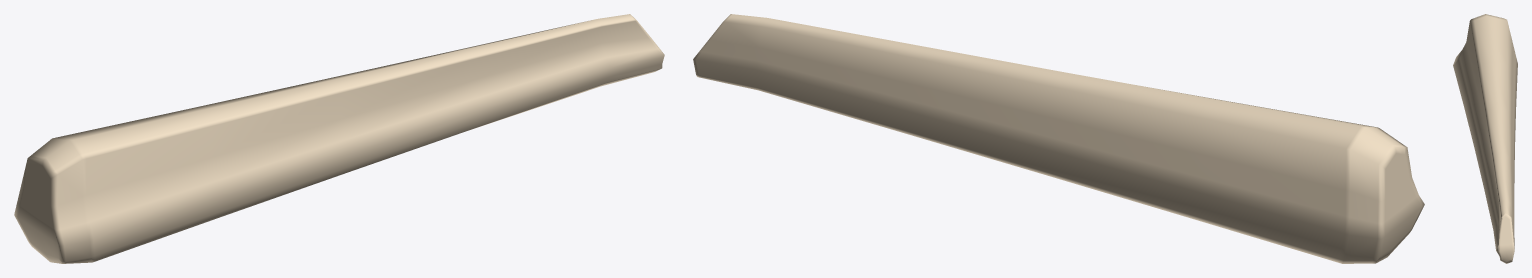
Rendered from WOOD_B_UI.fbx.
3 views of the same model, side by side, from view 1: azimuth 30°, elevation 25°; view 2: azimuth 150°, elevation 25°; view 3: azimuth 270°, elevation 25° (orthographic). The views are drawn at different scales.
Visible parts, largest first — view 1: WOOD_B_UI; view 2: WOOD_B_UI; view 3: WOOD_B_UI.
Boxes of the visible parts, bbox=[...] form: WOOD_B_UI: bbox=[14, 14, 664, 263]; WOOD_B_UI: bbox=[693, 14, 1424, 263]; WOOD_B_UI: bbox=[1453, 14, 1517, 263].
Bounding box in the file's own units: 3.86 × 0.7067 × 0.5201.
